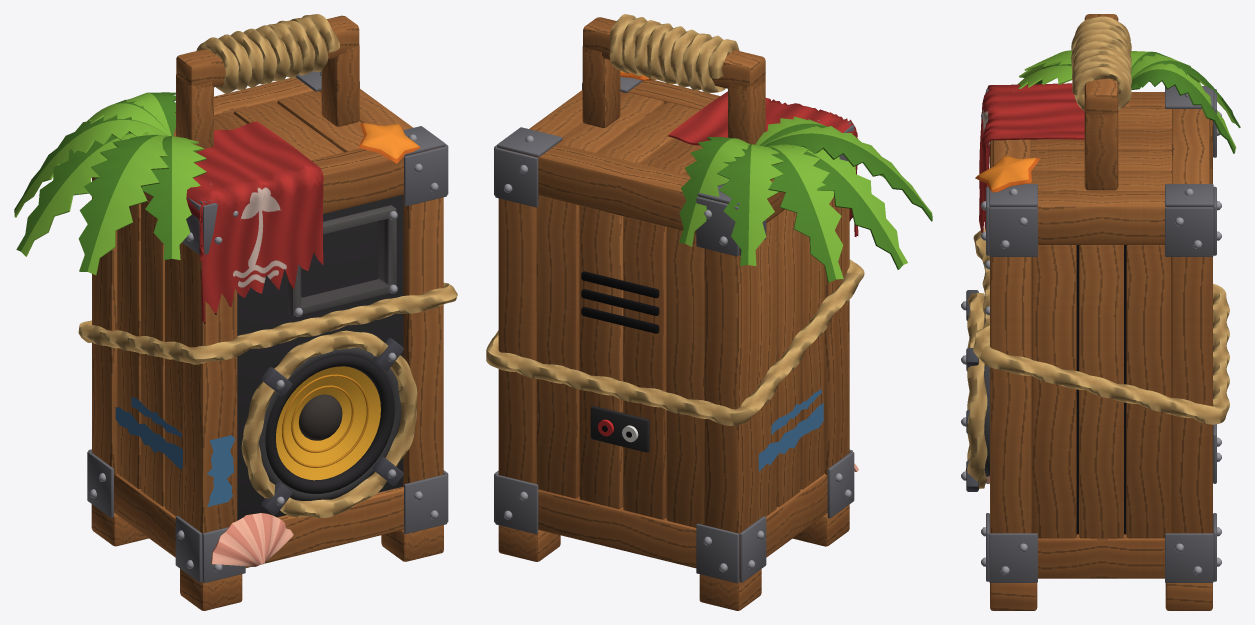
The model's file is LobbySpeaker.fbx.
3 views of the same model, side by side, from view 1: azimuth 30°, elevation 25°; view 2: azimuth 150°, elevation 25°; view 3: azimuth 270°, elevation 25° (orthographic).
Parts seen in each view (by area): view 1: Speaker_Body, Speaker_Decor, Speaker_Rope, Speaker_WooferCone; view 2: Speaker_Body, Speaker_Decor, Speaker_Rope; view 3: Speaker_Body, Speaker_Rope, Speaker_Decor.
Boxes of the visible parts, box(x1,y1,x2,y2) form: Speaker_Body: box(87, 15, 448, 610); Speaker_Decor: box(14, 92, 420, 566); Speaker_Rope: box(78, 14, 457, 517); Speaker_WooferCone: box(265, 355, 394, 493); Speaker_Body: box(494, 17, 854, 610); Speaker_Decor: box(620, 70, 932, 471); Speaker_Rope: box(486, 14, 864, 425); Speaker_Body: box(961, 14, 1221, 610); Speaker_Rope: box(967, 16, 1229, 488); Speaker_Decor: box(965, 50, 1240, 483).
Bounding box in the file's own units: 15.44 × 20.28 × 10.03.
1 material, 1 textured.
